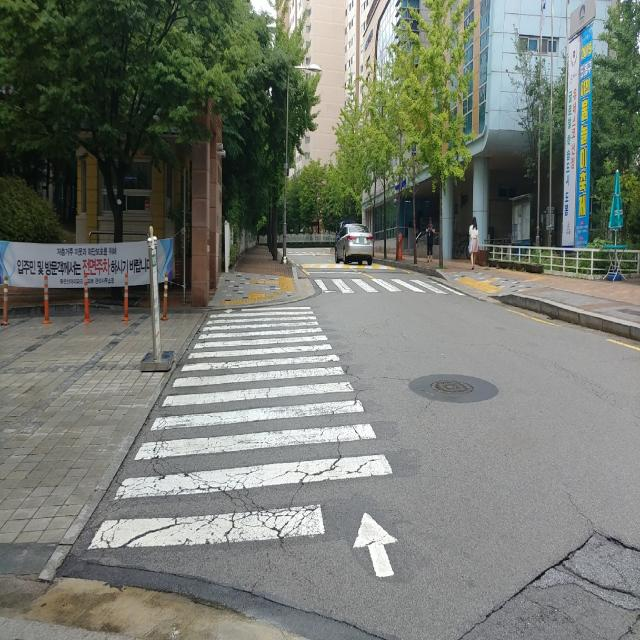횡단보도: (84, 304, 402, 583), (306, 275, 437, 301)
